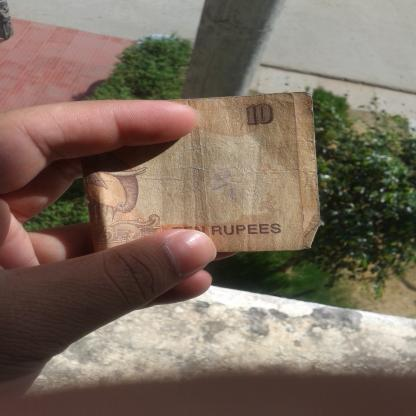Old10Back: (86, 89, 324, 254)
